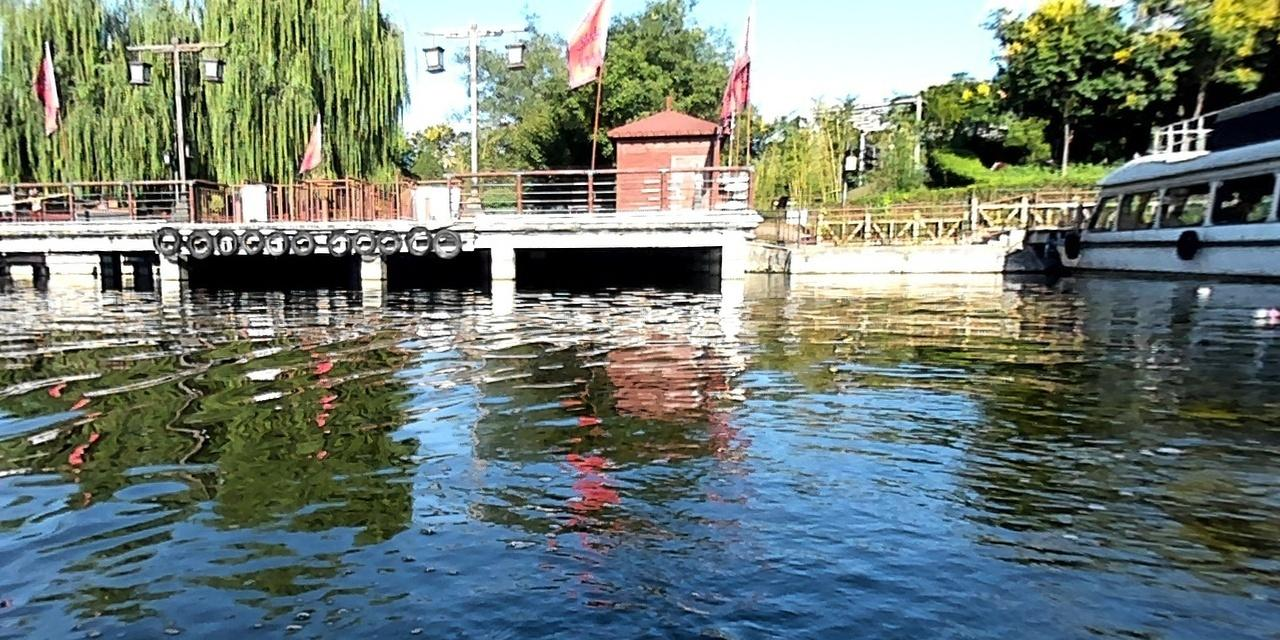bottle: (1248, 305, 1279, 321)
